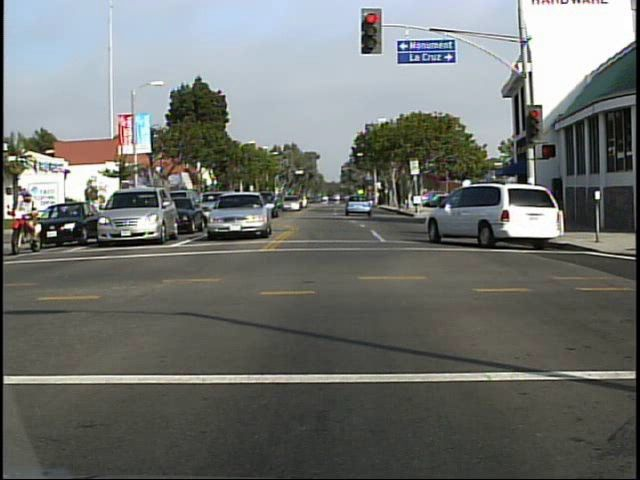person: (7, 185, 43, 253)
